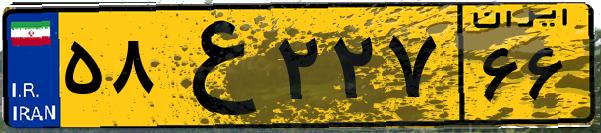2: (270, 28, 330, 110), (330, 28, 385, 110)
5: (57, 26, 110, 100)
6: (475, 38, 525, 113), (525, 38, 570, 115)
7: (385, 28, 445, 110)
8: (110, 28, 158, 98)
ع: (158, 12, 270, 120)
